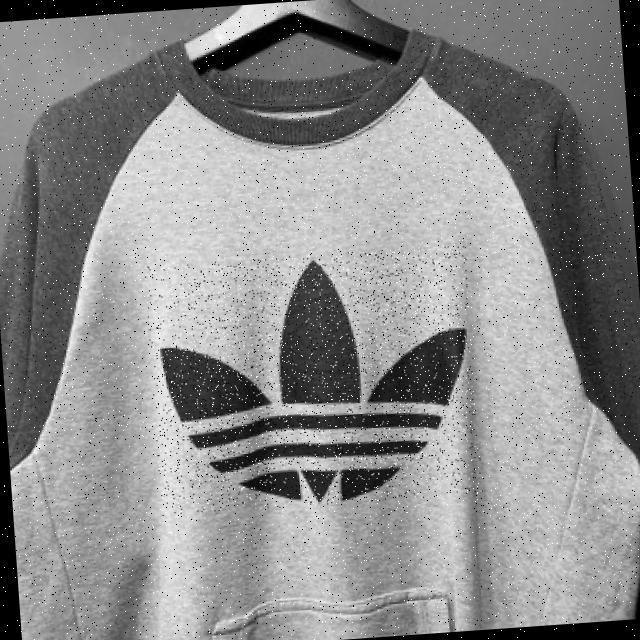Adidas: (144, 244, 483, 516)
